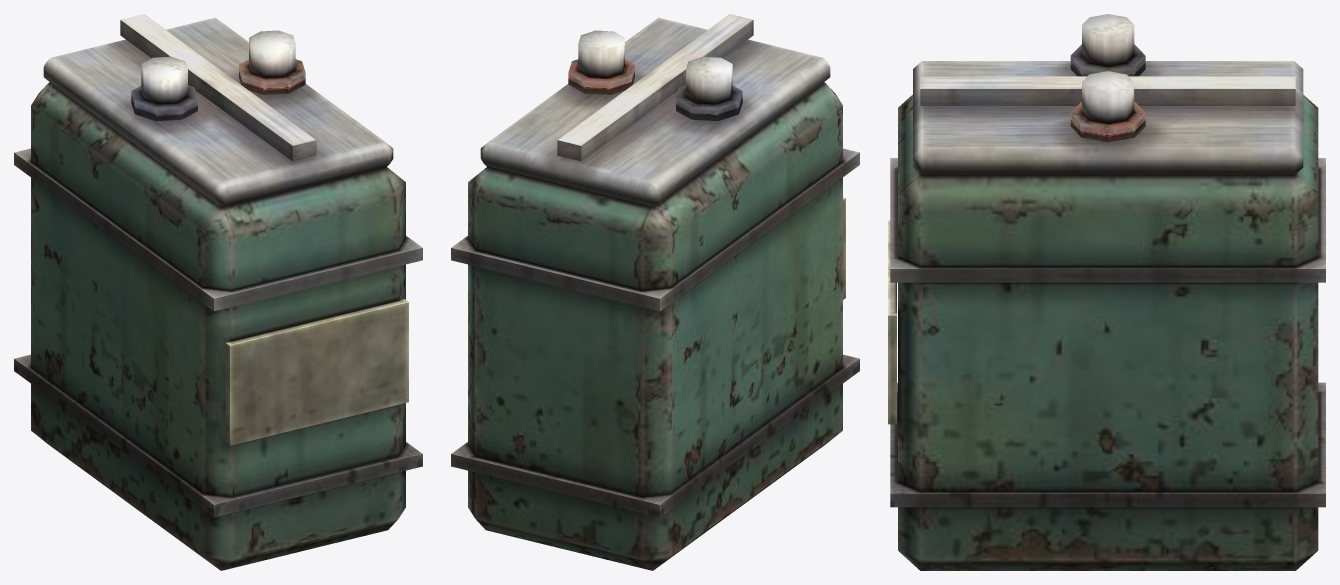
Rendered from bateria_celula.glb.
3 renders of one model, left to right at view 1: azimuth 30°, elevation 25°; view 2: azimuth 150°, elevation 25°; view 3: azimuth 270°, elevation 25°, orthographic. The views are drawn at different scales.
Parts seen in each view (by area): view 1: bateria_celula; view 2: bateria_celula; view 3: bateria_celula.
Part boxes in pixels (<box>): bateria_celula: <box>14,14,422,570</box>; bateria_celula: <box>451,14,859,570</box>; bateria_celula: <box>888,14,1325,570</box>.
Bounding box in the file's own units: 0.35 × 0.695 × 0.583.
1 material, 1 textured.
